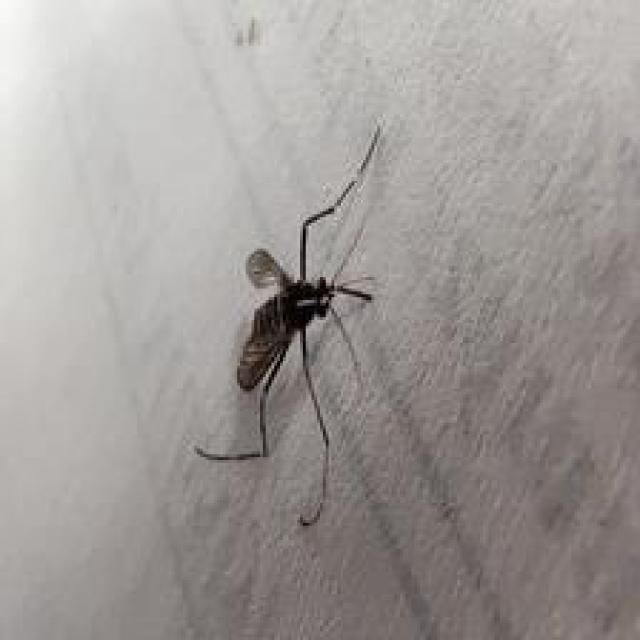Aedes albopictus: (193, 124, 384, 527)
